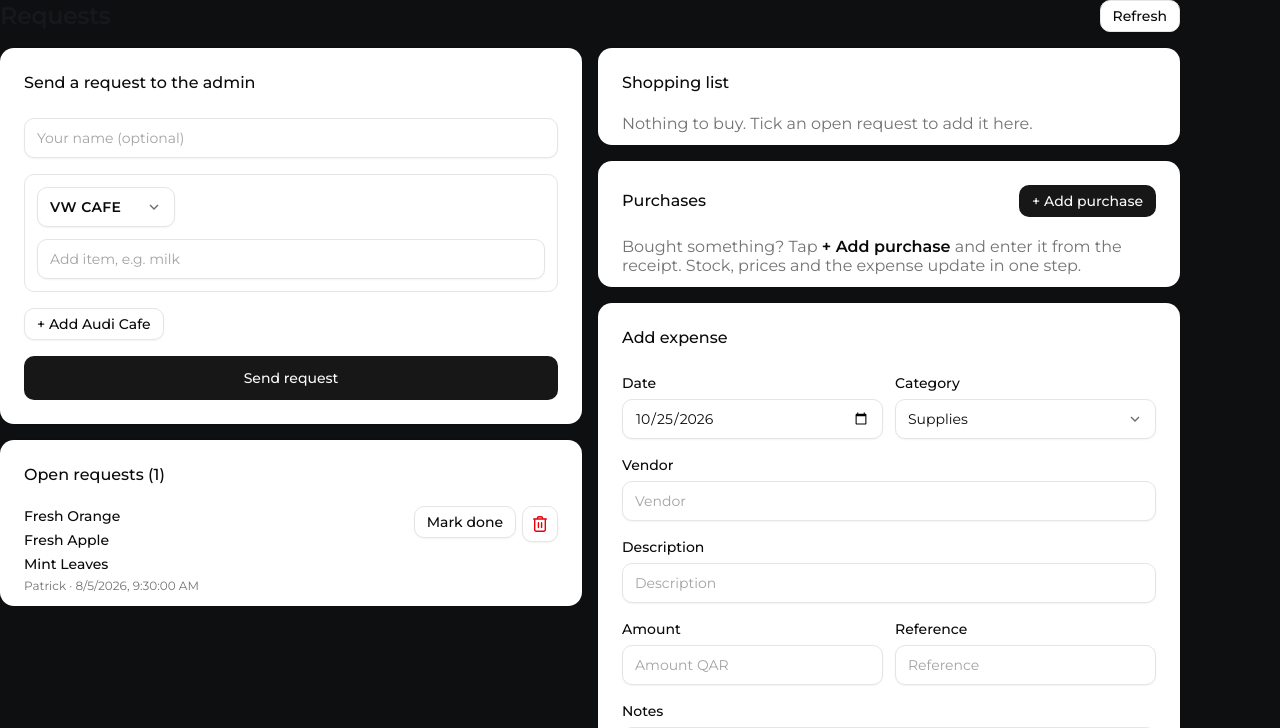
Test: opening a request › closes again
Click the button titled "Open this request".
click(72, 516)  # box left=24, top=506, right=402, bottom=594
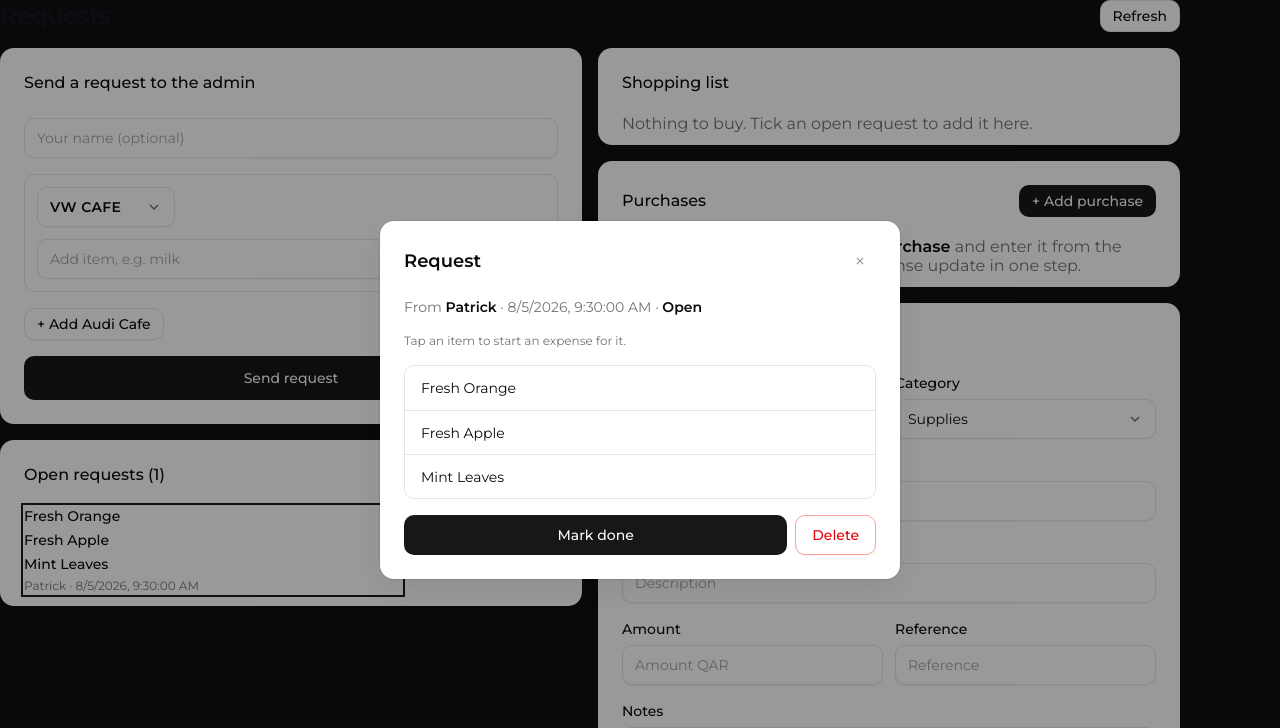
Click the button named "Close".
click(860, 261)  # box left=844, top=245, right=876, bottom=277
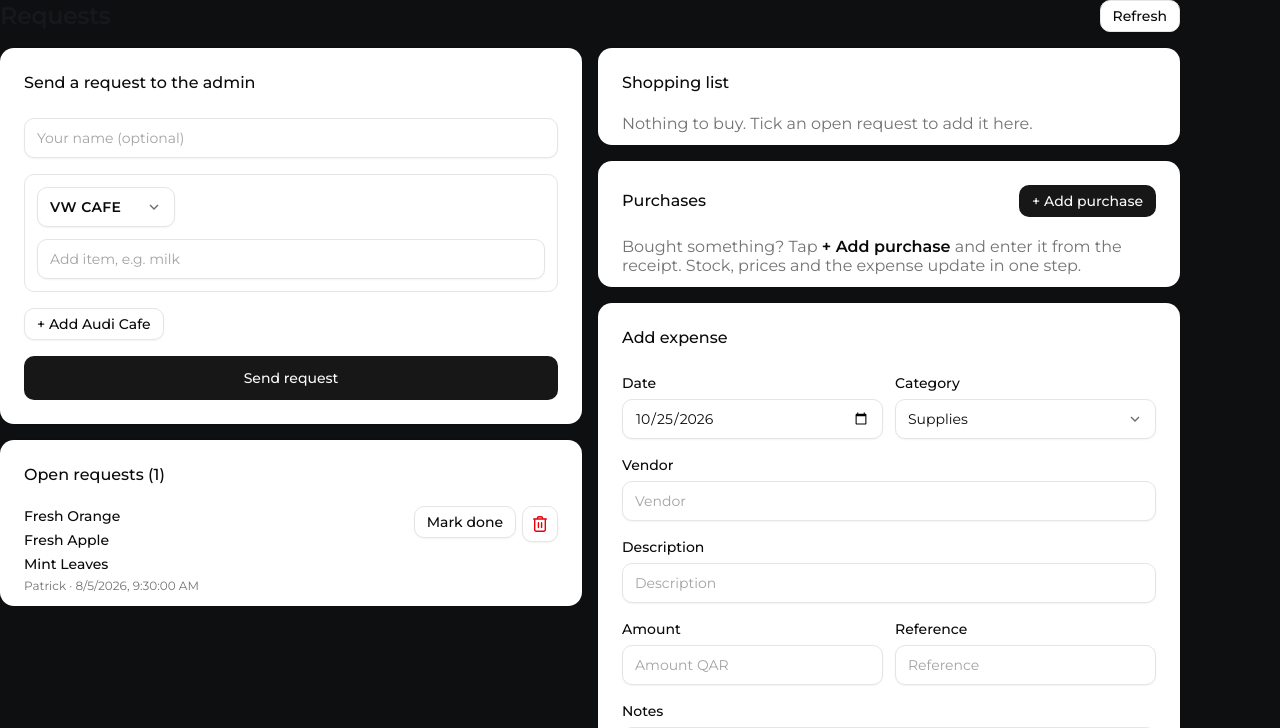
Expected: the dialog is gone
